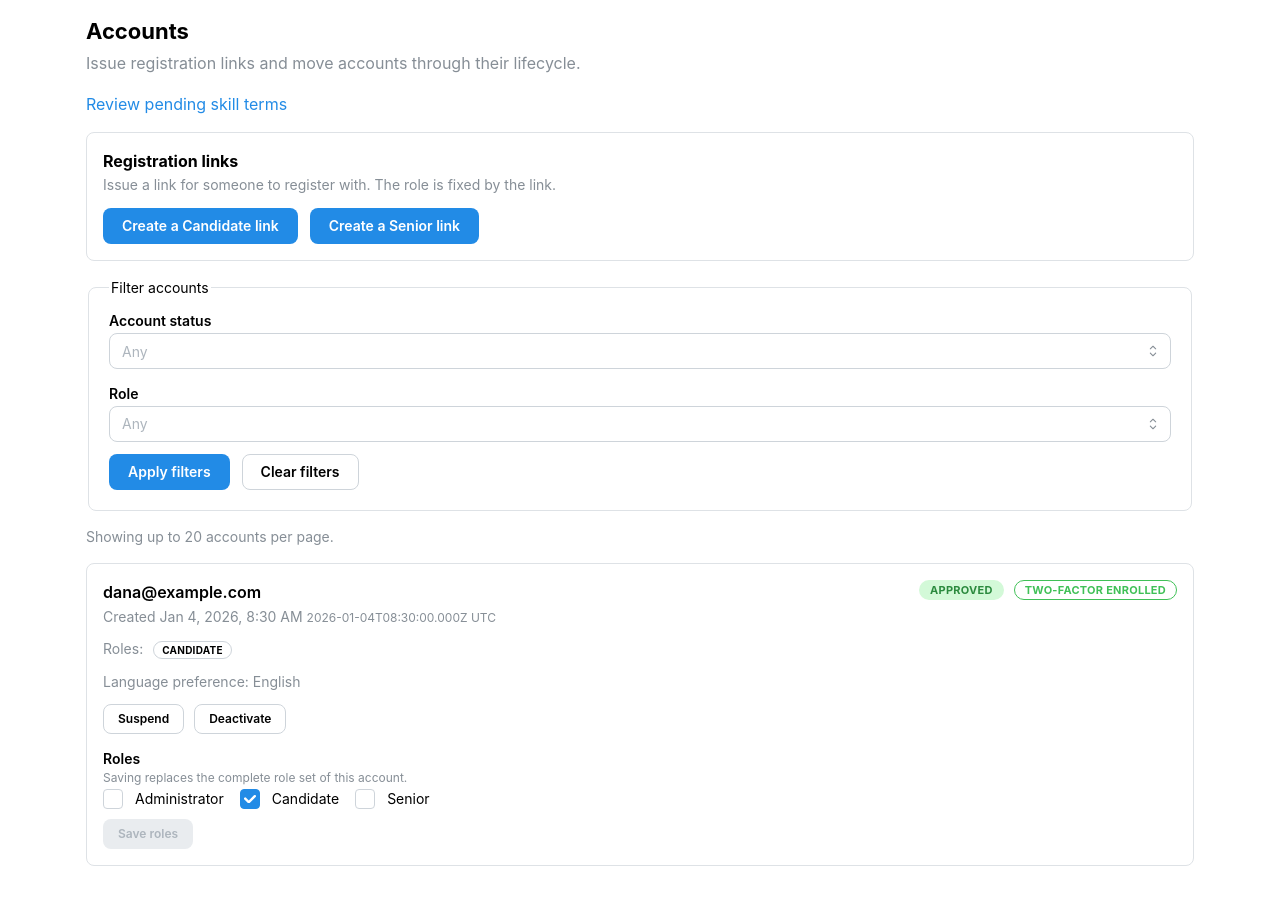
Test case: a Registration_Link token after the screen is left (Req 16 AC6) › discards the token from the screen and the cache when the Admin hides it
What coordinates should you click on to do the following:
click the button with test id "registration-link-create-CANDIDATE"
I would click on:
 (200, 226)
Its box is [103,208,298,244].
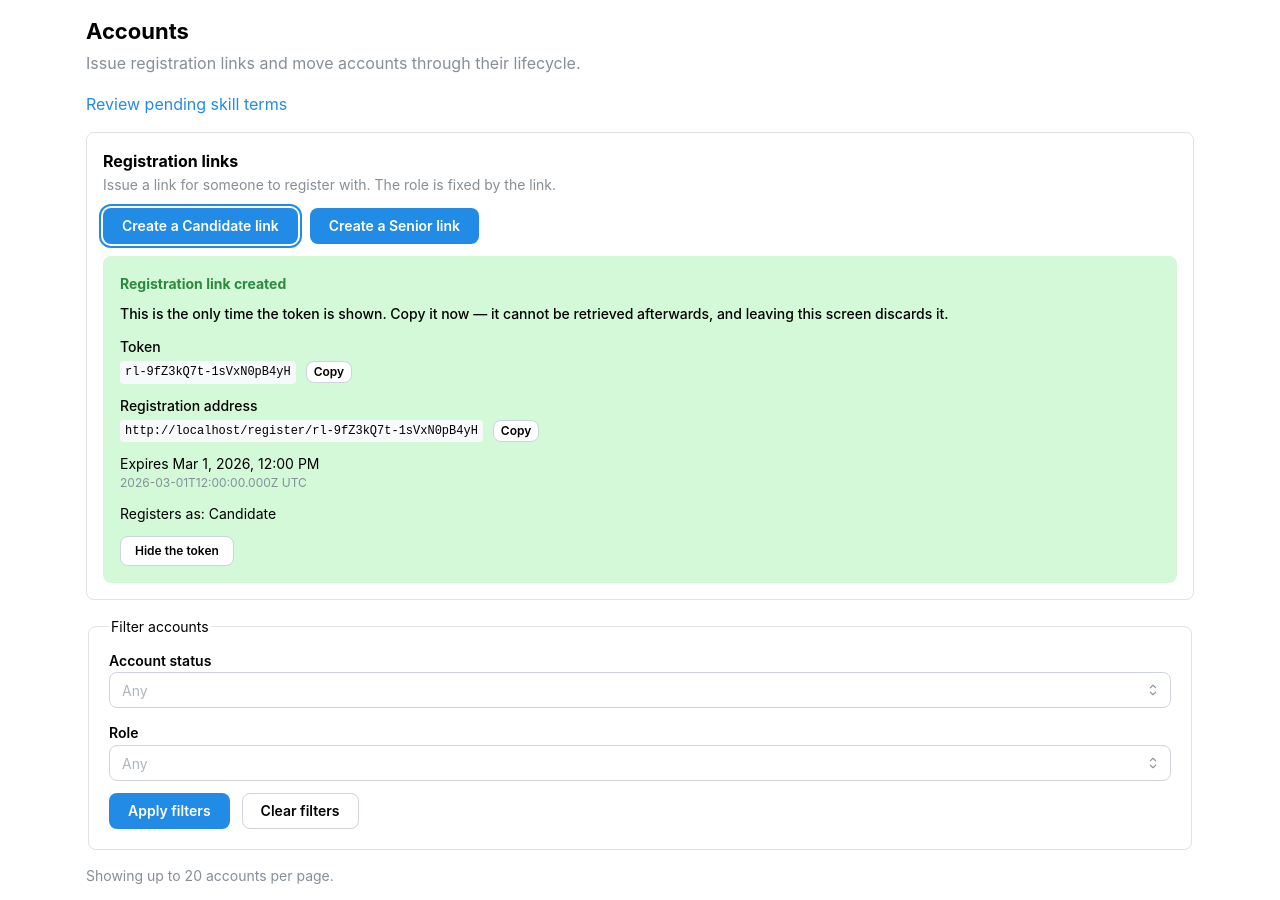
Check: the element with test id "registration-link-token" is shown, box [120,361,296,384]
What coordinates should you click on to do the following:
click the button with test id "registration-link-dismiss"
I would click on:
 (177, 551)
Its box is [120,536,234,566].
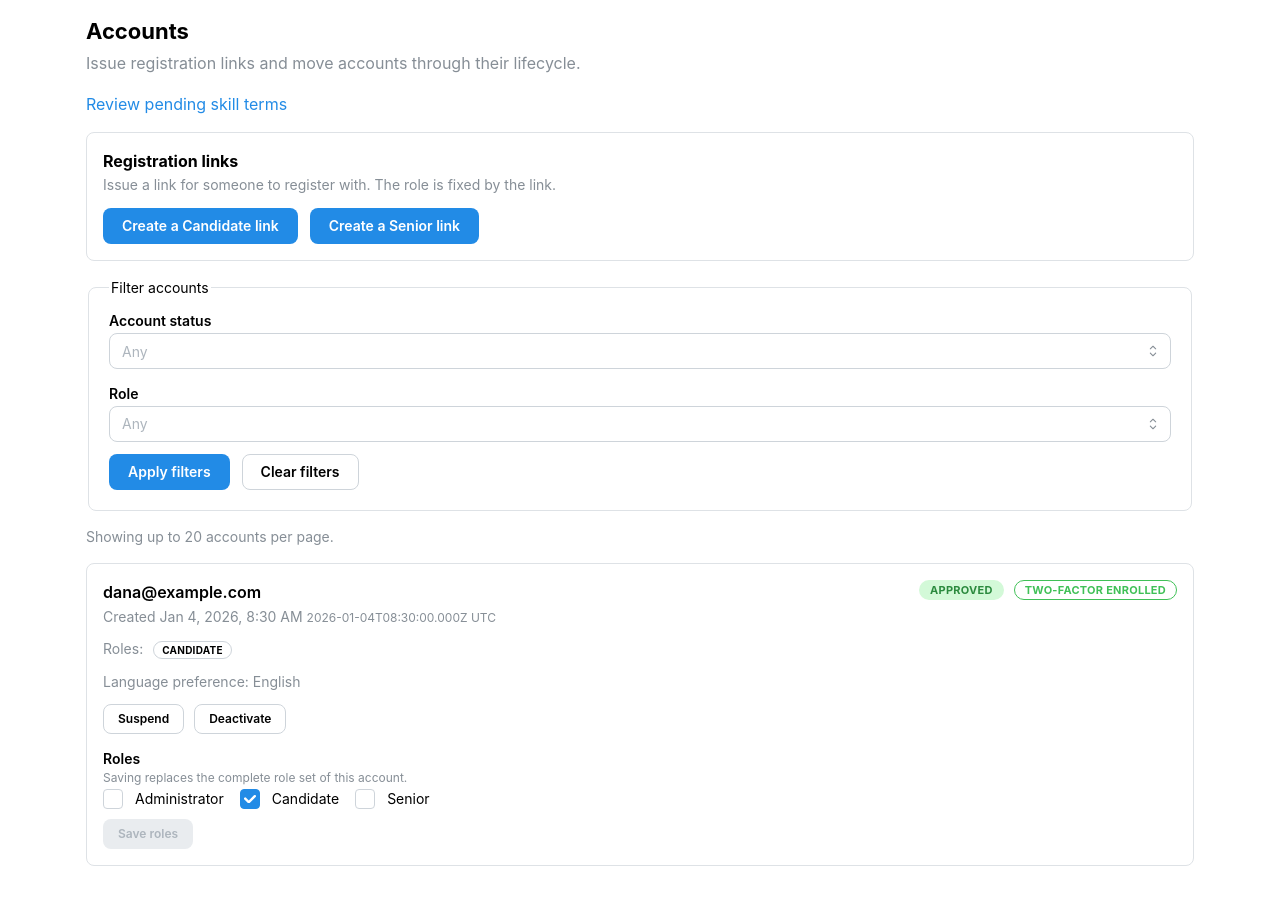
Check: the message with test id "registration-link-issued" is gone
